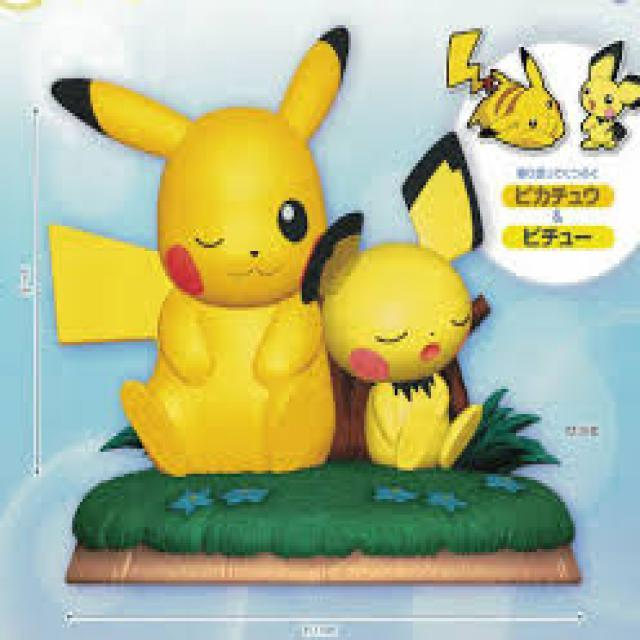pichu: (303, 186, 534, 490), (588, 41, 640, 160)
